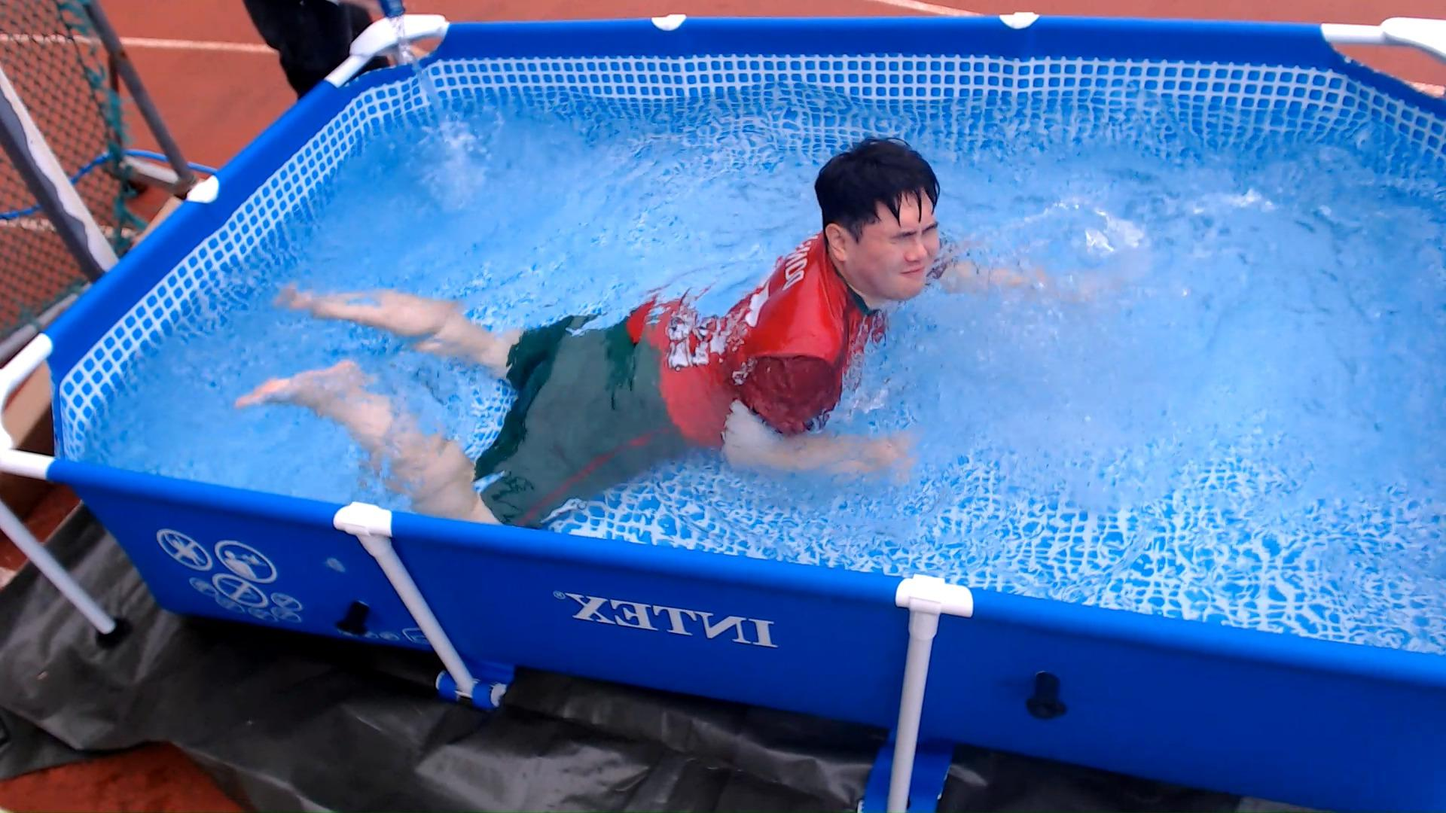Drowning: (262, 128, 1096, 490)
